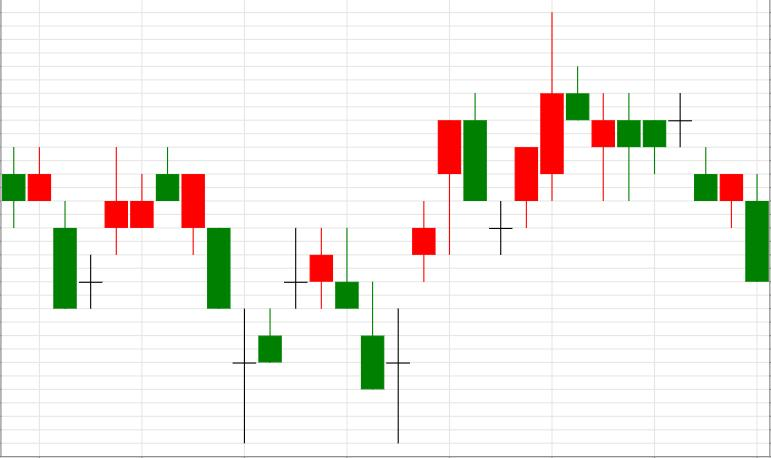hanging_man_fall: (361, 119, 461, 444)
